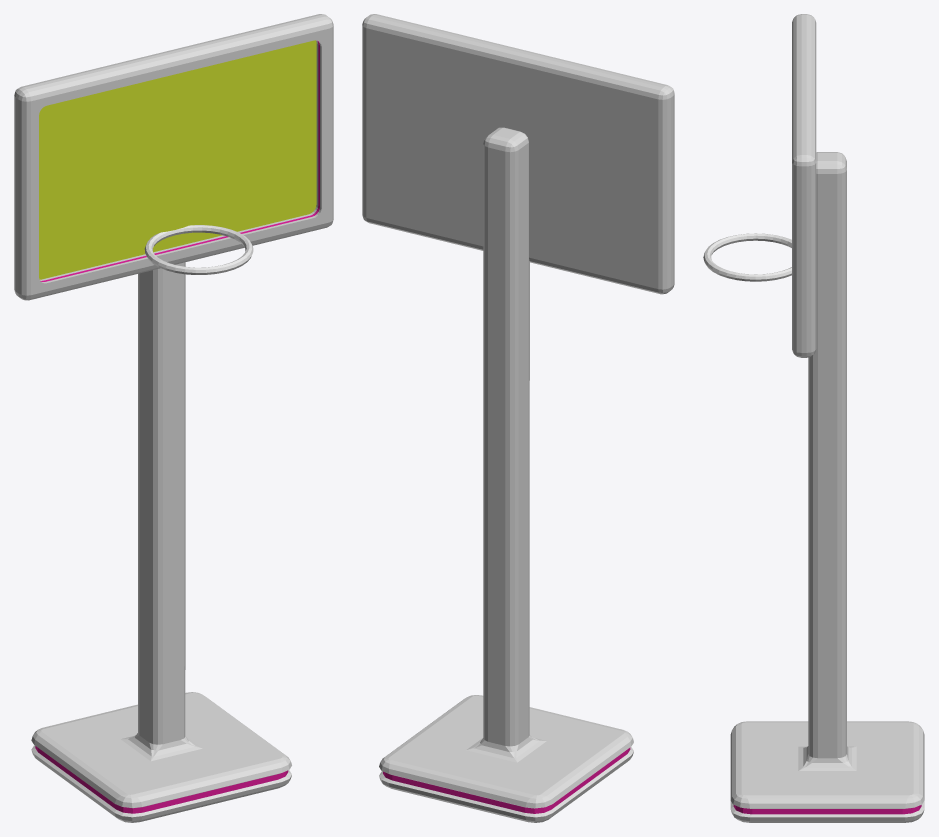
Rendered from Target.fbx.
3 renders of one model, left to right at view 1: azimuth 30°, elevation 25°; view 2: azimuth 150°, elevation 25°; view 3: azimuth 270°, elevation 25°, orthographic. The views are drawn at different scales.
Parts seen in each view (by area): view 1: Board, Target, Ring; view 2: Board, Target; view 3: Target, Board, Ring.
Part boxes in pixels (<box>): Board: <box>14,14,333,300</box>; Target: <box>31,262,291,822</box>; Ring: <box>144,225,253,274</box>; Board: <box>362,14,674,294</box>; Target: <box>379,127,633,822</box>; Target: <box>730,152,924,822</box>; Board: <box>792,14,816,357</box>; Ring: <box>703,233,791,281</box>.
Bounding box in the file's own units: 180 × 398 × 114.
